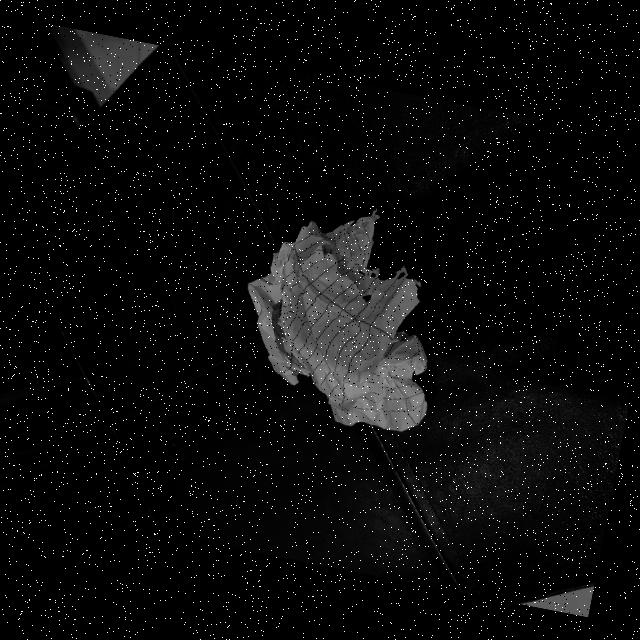scrap_paper: (218, 191, 464, 443)
